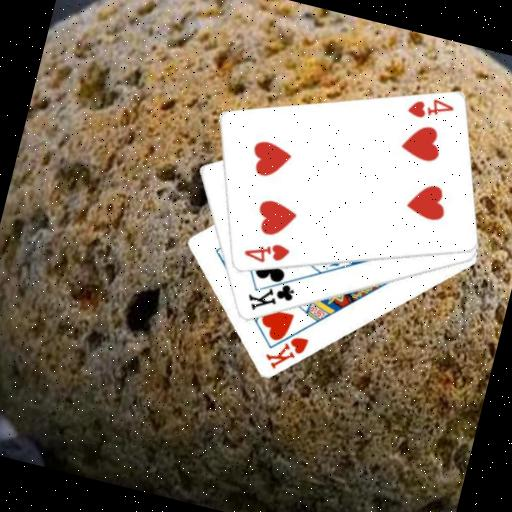4H: (239, 233, 293, 271), (403, 90, 457, 128)
KC: (242, 265, 300, 321)
KH: (259, 326, 311, 378)
